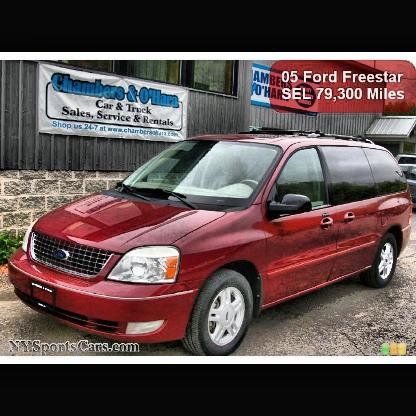Ford Freestar Minivan 2007: (6, 135, 413, 355)
